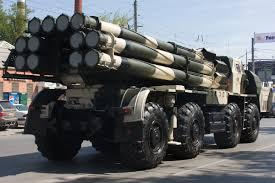MIL_SAM_TEL: (9, 9, 265, 170)
